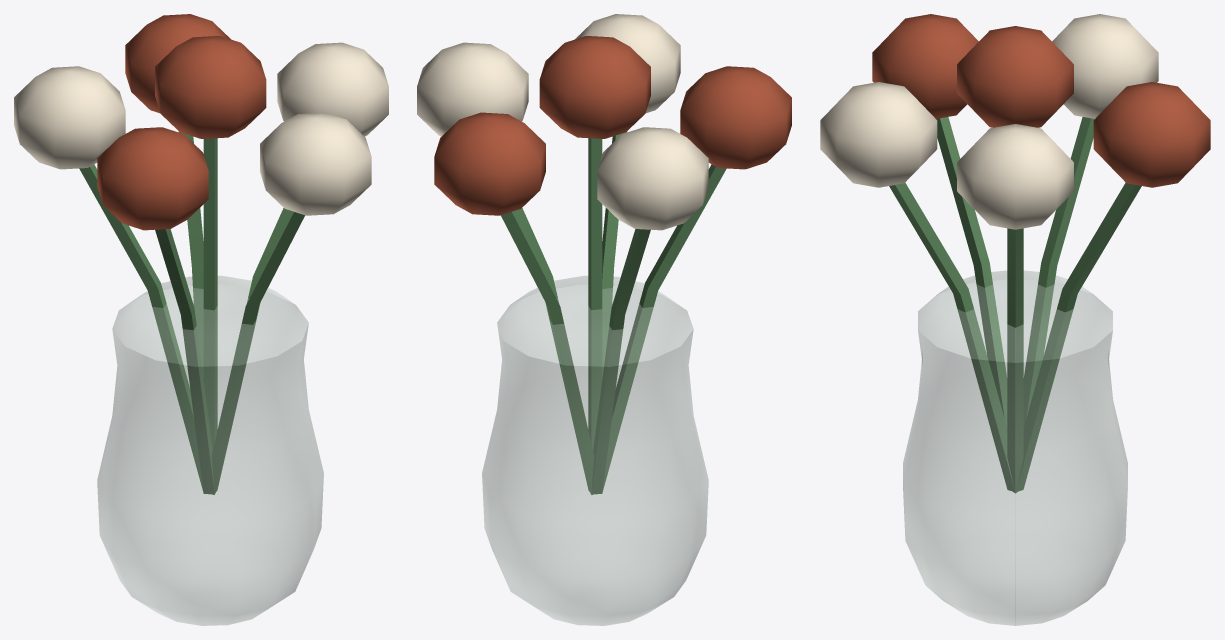
Rendered from vase_roses.glb.
3 views of the same model, side by side, from view 1: azimuth 30°, elevation 25°; view 2: azimuth 150°, elevation 25°; view 3: azimuth 270°, elevation 25° (orthographic).
Visible parts, largest first — view 1: vase_roses; view 2: vase_roses; view 3: vase_roses.
Boxes of the visible parts, bbox=[...] form: vase_roses: bbox=[14, 14, 388, 625]; vase_roses: bbox=[417, 14, 791, 625]; vase_roses: bbox=[820, 14, 1210, 625].
Size of the model in its own units: 0.1837 by 0.305 by 0.1902.
